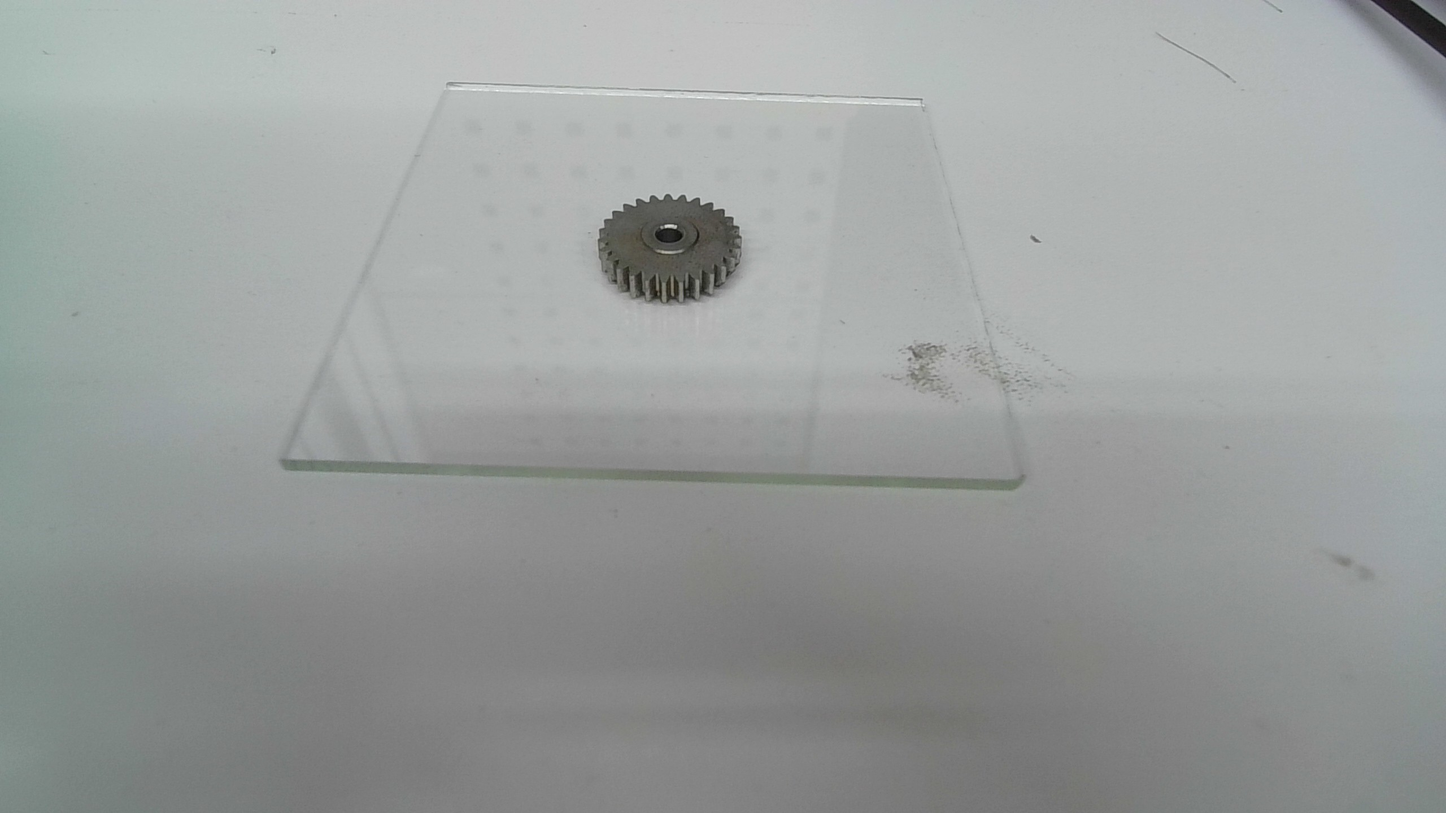gear: (596, 191, 745, 306)
